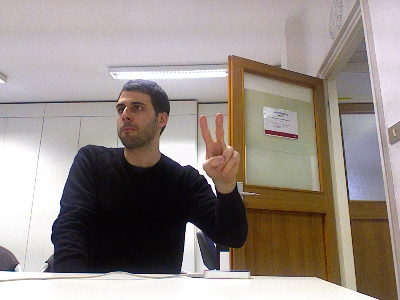剪刀: (198, 112, 240, 187)
